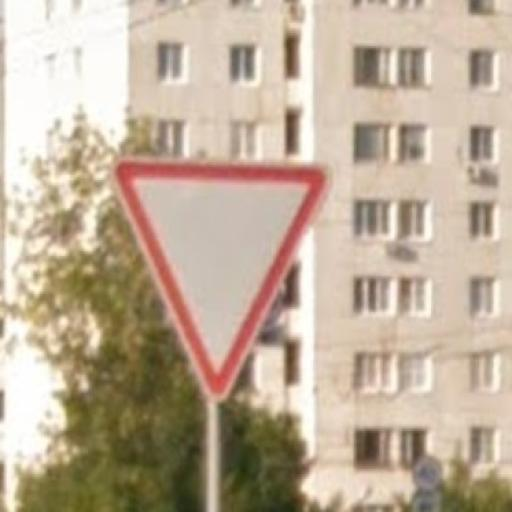traffic_sign: (110, 152, 333, 408)
